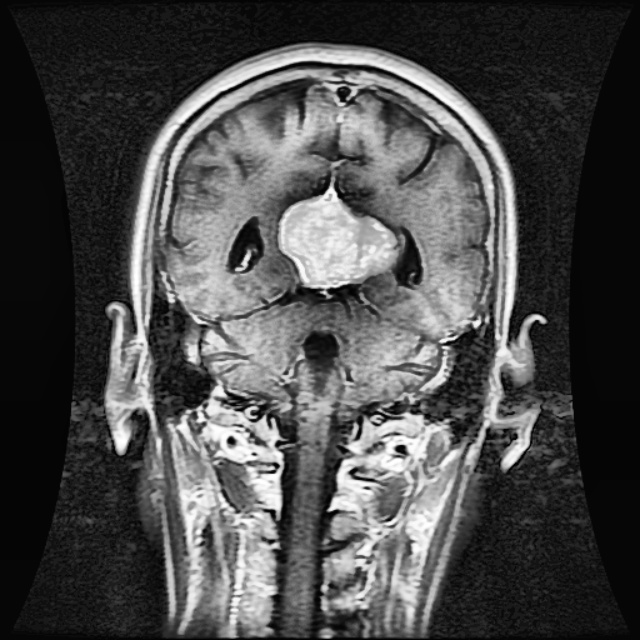Glioma: (279, 192, 393, 290)
